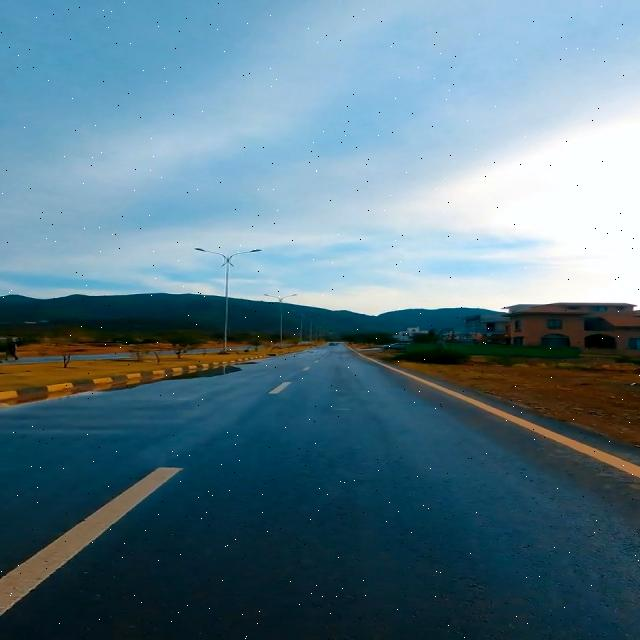lane: (350, 347, 640, 477), (1, 467, 183, 614)
road: (2, 346, 638, 639), (350, 347, 640, 477), (1, 467, 183, 614)
